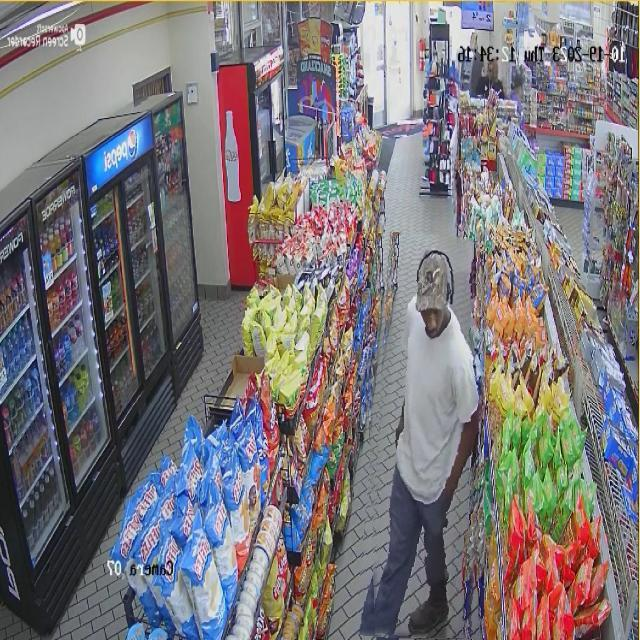Normal: (363, 233, 484, 640)
